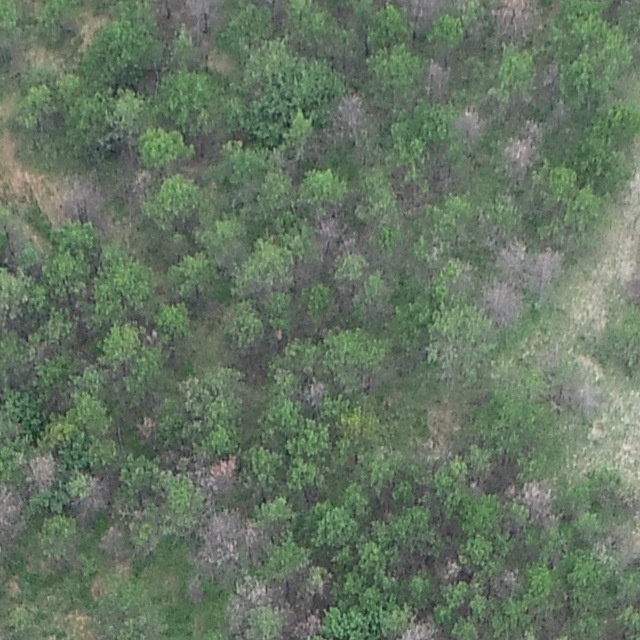unhealthy: (196, 509, 256, 569), (500, 116, 544, 176), (592, 521, 639, 570), (191, 452, 240, 499), (59, 177, 108, 219), (514, 478, 557, 525), (492, 0, 540, 42), (479, 281, 524, 323), (326, 91, 369, 133), (76, 473, 115, 519), (180, 0, 225, 37), (1, 480, 25, 548), (556, 381, 603, 413), (492, 238, 527, 277), (531, 247, 565, 287), (452, 105, 488, 142), (25, 450, 59, 489), (395, 0, 445, 26), (416, 433, 456, 465), (423, 58, 452, 101), (397, 616, 446, 639), (98, 523, 129, 559), (489, 566, 523, 598), (286, 609, 322, 639), (223, 593, 249, 634), (311, 212, 344, 243), (241, 577, 274, 607), (298, 377, 329, 407), (435, 554, 464, 584), (290, 258, 321, 286), (428, 162, 456, 192), (535, 61, 563, 89), (184, 573, 208, 605), (134, 415, 158, 444), (619, 275, 637, 300)
